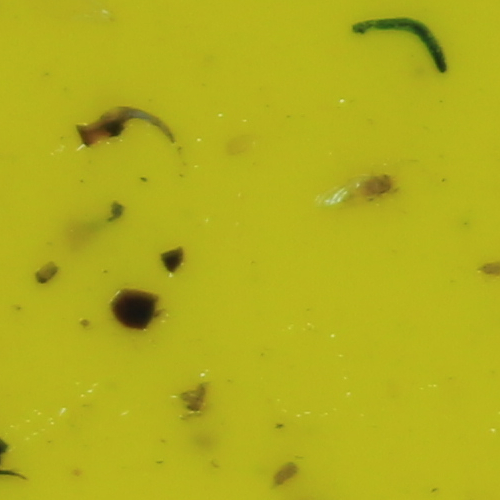psylla: (356, 170, 402, 201)
